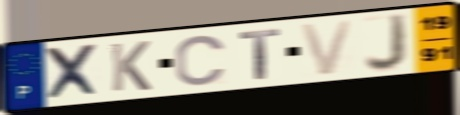C: (173, 33, 229, 88)
J: (362, 12, 410, 73)
K: (108, 39, 153, 94)
T: (236, 27, 282, 82)
V: (298, 18, 357, 78)
X: (41, 42, 105, 103)
